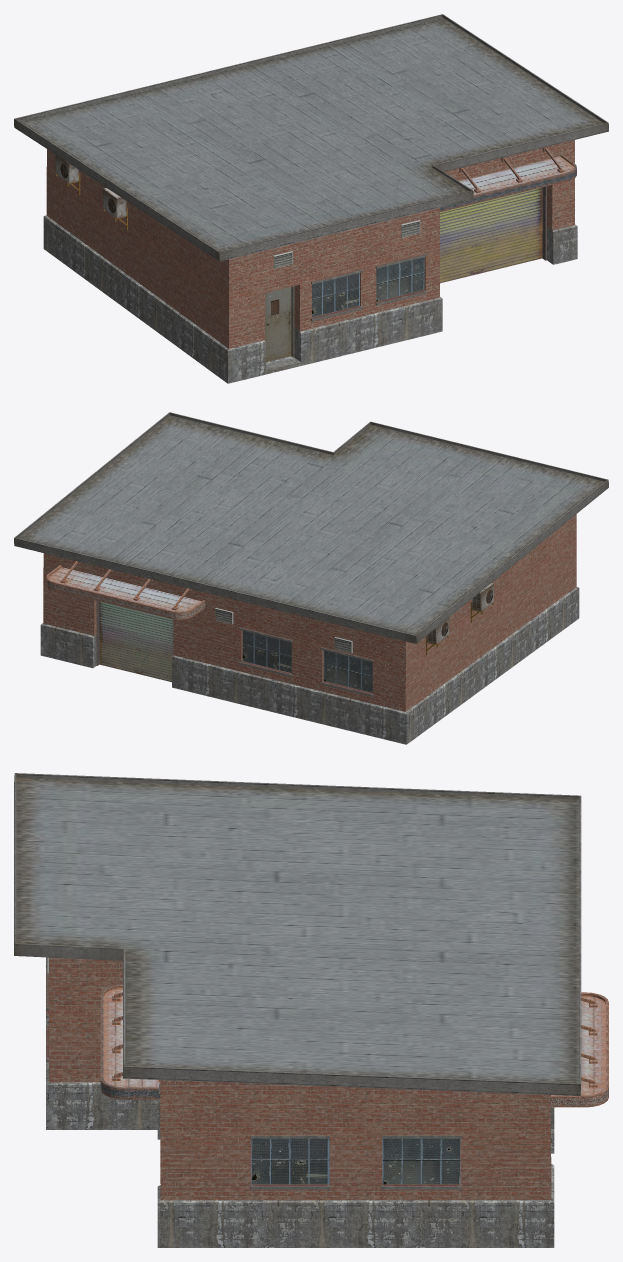
The model's file is Garage.fbx.
3 renders of one model, top to bottom at view 1: azimuth 30°, elevation 25°; view 2: azimuth 150°, elevation 25°; view 3: azimuth 270°, elevation 25°, orthographic. The views are drawn at different scales.
Visible parts, largest first — view 1: urbanGarageRoofEdge_urbanGarageRoof_0; view 2: urbanGarageRoofEdge_urbanGarageRoof_0; view 3: urbanGarageRoofEdge_urbanGarageRoof_0.
Boxes of the visible parts, box(x1,y1,x2,y2) form: urbanGarageRoofEdge_urbanGarageRoof_0: box(14, 14, 608, 383); urbanGarageRoofEdge_urbanGarageRoof_0: box(14, 412, 608, 744); urbanGarageRoofEdge_urbanGarageRoof_0: box(14, 773, 608, 1247).
Bounding box in the file's own units: 12.23 × 3.93 × 10.66.
10 materials, 10 textured.
